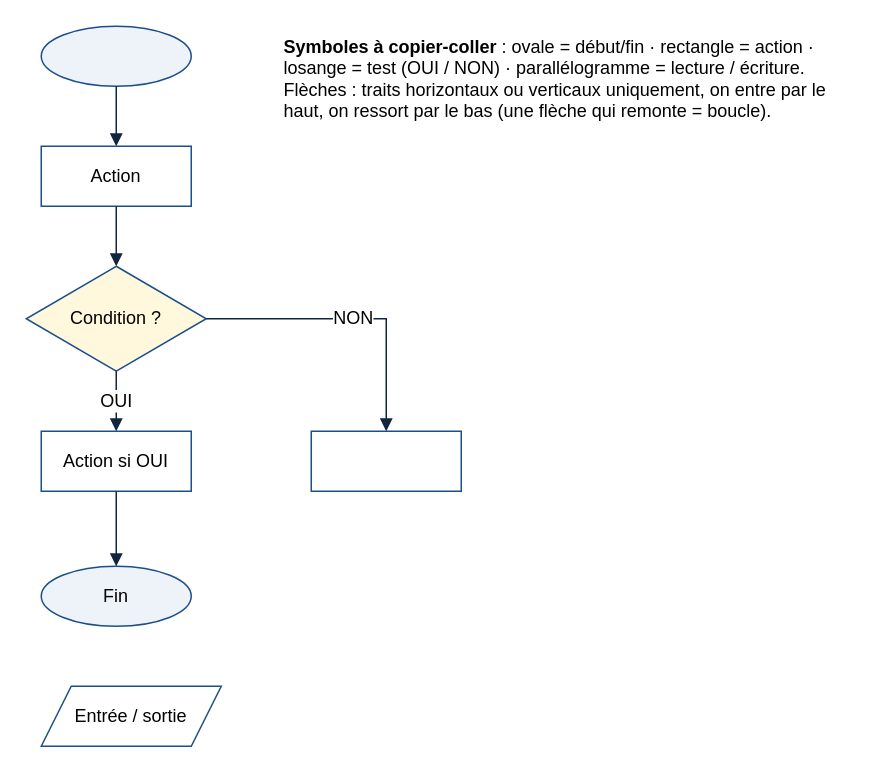
The diagram is 878 pixels wide and 773 high, and some of its shapes have lost their labels. Each missing label, with the centre of its shape:
Action si NON: the point at 385,460
Début: the point at 115,55
